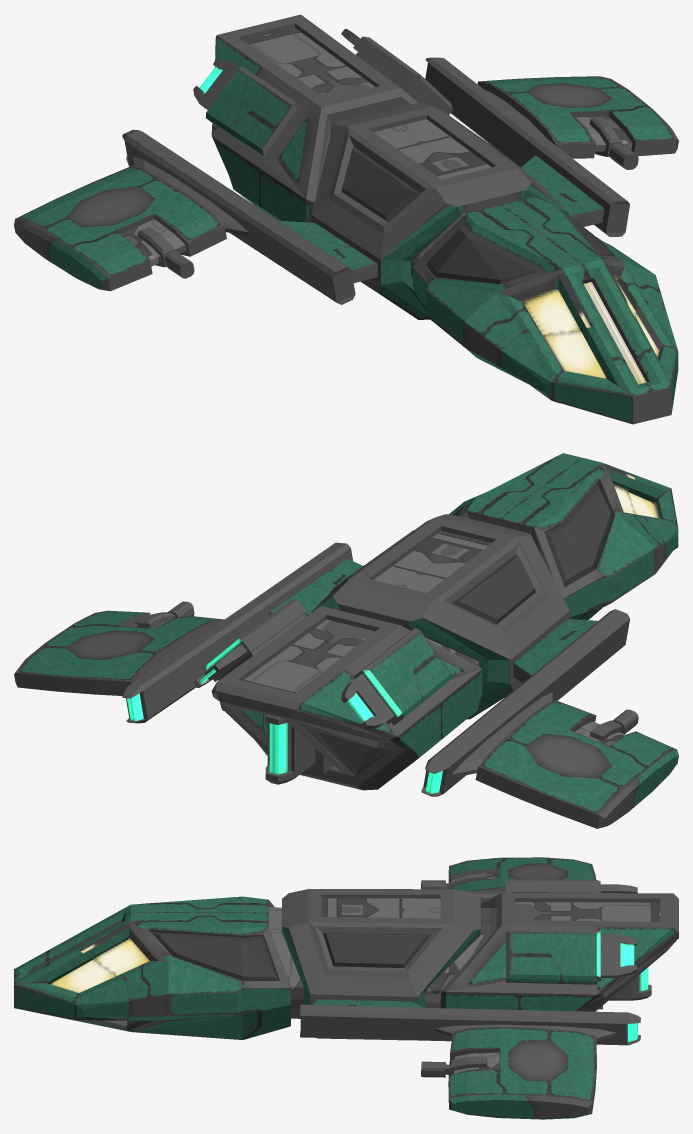
The model's file is Firefly.fbx.
3 renders of one model, top to bottom at view 1: azimuth 30°, elevation 25°; view 2: azimuth 150°, elevation 25°; view 3: azimuth 270°, elevation 25°, orthographic. The views are drawn at different scales.
Visible parts, largest first — view 1: Cube; view 2: Cube; view 3: Cube.
Boxes of the visible parts, x1,y1,x2,y2 form: Cube: (14, 14, 678, 424); Cube: (14, 453, 678, 828); Cube: (14, 857, 678, 1119).
Bounding box in the file's own units: 1809 × 416 × 2099.
1 material, 1 textured.
